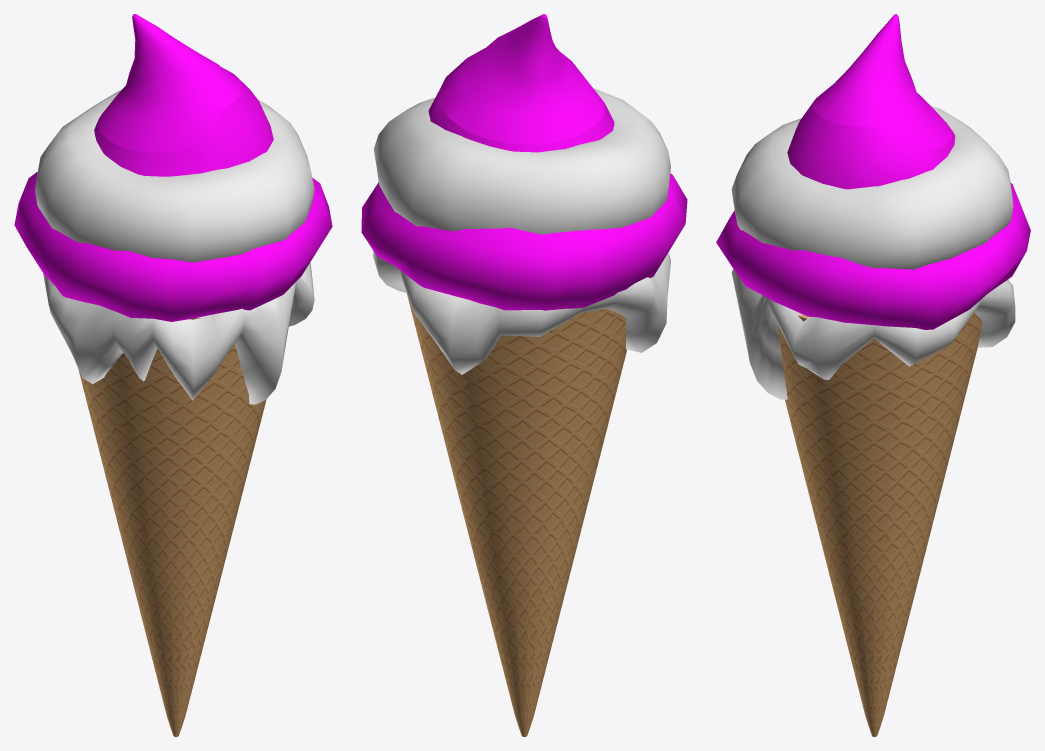
File: objCornet.obj
The picture shows the model from 3 angles, left to right: view 1: azimuth 30°, elevation 25°; view 2: azimuth 150°, elevation 25°; view 3: azimuth 270°, elevation 25°; orthographic projection. The views are drawn at different scales.
Visible parts, largest first — view 1: pCylinder19, pSphere1, pTorus1, pTorus2; view 2: pCylinder19, pSphere1, pTorus1, pTorus2; view 3: pCylinder19, pSphere1, pTorus1, pTorus2.
Boxes of the visible parts, x1,y1,x2,y2 form: pCylinder19: (78, 318, 266, 736); pSphere1: (14, 14, 332, 321); pTorus1: (35, 90, 314, 262); pTorus2: (43, 262, 314, 404); pCylinder19: (406, 293, 626, 736); pSphere1: (361, 14, 687, 310); pTorus1: (373, 88, 670, 234); pTorus2: (373, 251, 670, 374); pCylinder19: (778, 312, 982, 736); pSphere1: (716, 14, 1030, 329); pTorus1: (731, 106, 1013, 269); pTorus2: (731, 269, 1015, 399).
Size of the model in its own units: 11.36 by 28.74 by 11.6.
Materials: 3 (1 with a texture image).
